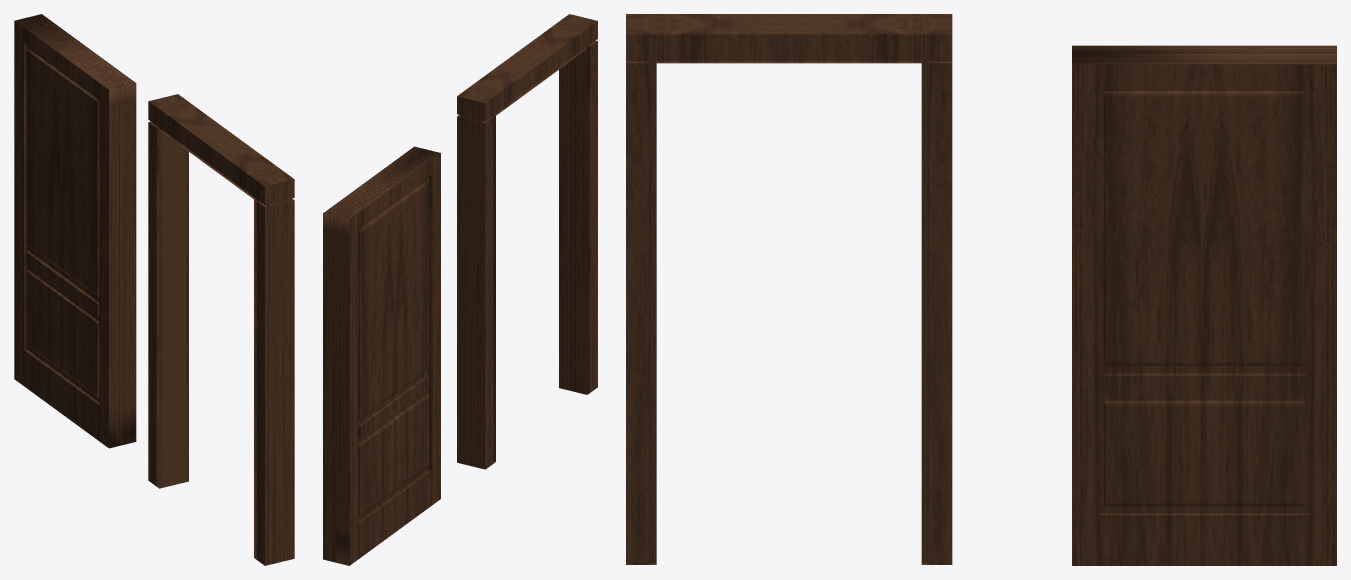
Rendered from portaGoodRender.fbx.
The picture shows the model from 3 angles, left to right: view 1: azimuth 30°, elevation 25°; view 2: azimuth 150°, elevation 25°; view 3: azimuth 270°, elevation 25°; orthographic projection. The views are drawn at different scales.
Parts seen in each view (by area): view 1: Porta, PortaCornice; view 2: Porta, PortaCornice; view 3: Porta, PortaCornice.
Boxes of the visible parts, left/top/right/bottom form: Porta: left=14, top=14, right=136, bottom=448; PortaCornice: left=148, top=94, right=294, bottom=565; Porta: left=323, top=146, right=440, bottom=565; PortaCornice: left=457, top=14, right=597, bottom=469; Porta: left=1072, top=45, right=1336, bottom=565; PortaCornice: left=626, top=14, right=952, bottom=564.
Bounding box in the file's own units: 17.21 × 202 × 246.
